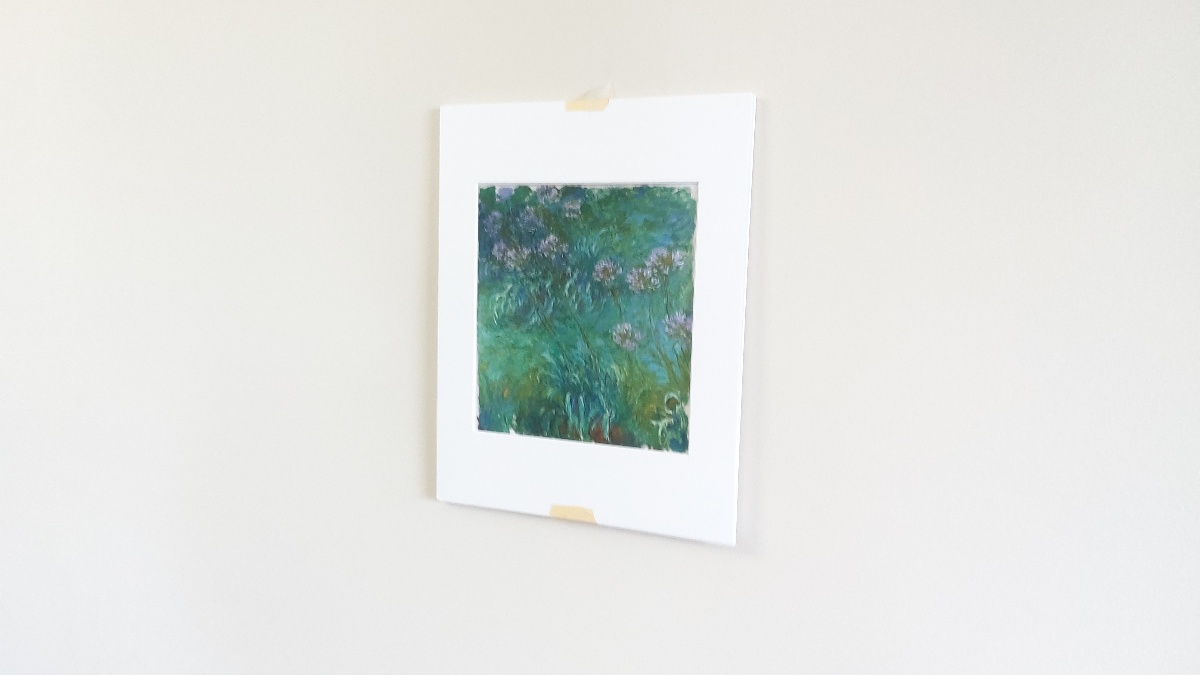painting: (465, 168, 702, 467)
